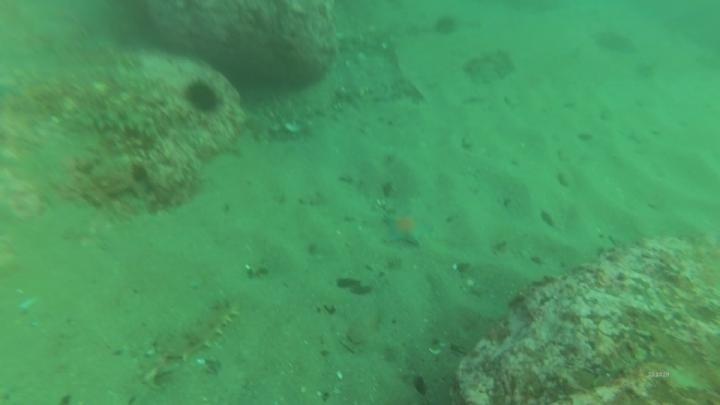echinus: (182, 77, 223, 116), (431, 13, 461, 39)
holothurian: (155, 294, 243, 364), (86, 102, 160, 141)
starfish: (380, 206, 432, 249)
